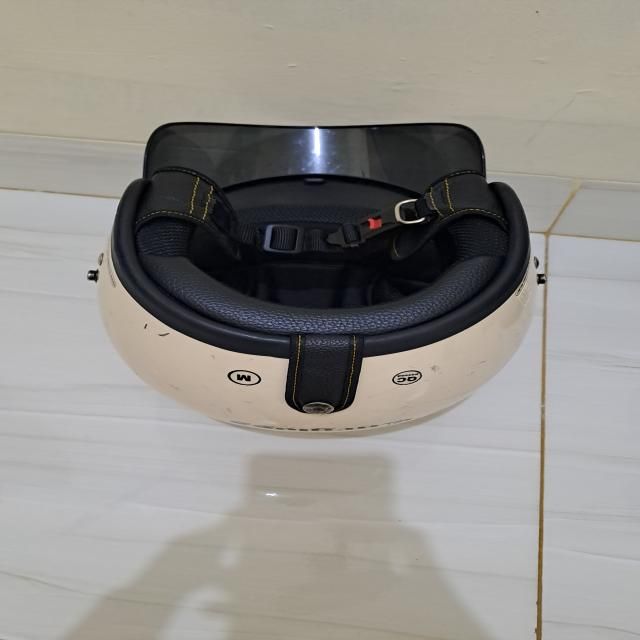Helm: (81, 104, 550, 451)
